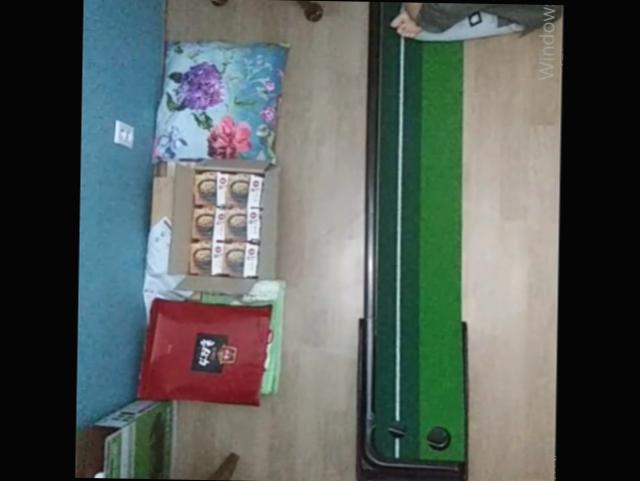green_zone: (375, 1, 465, 459)
hole: (426, 424, 452, 450), (387, 418, 407, 436)
